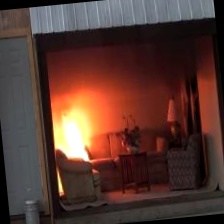fire: (49, 94, 101, 159)
